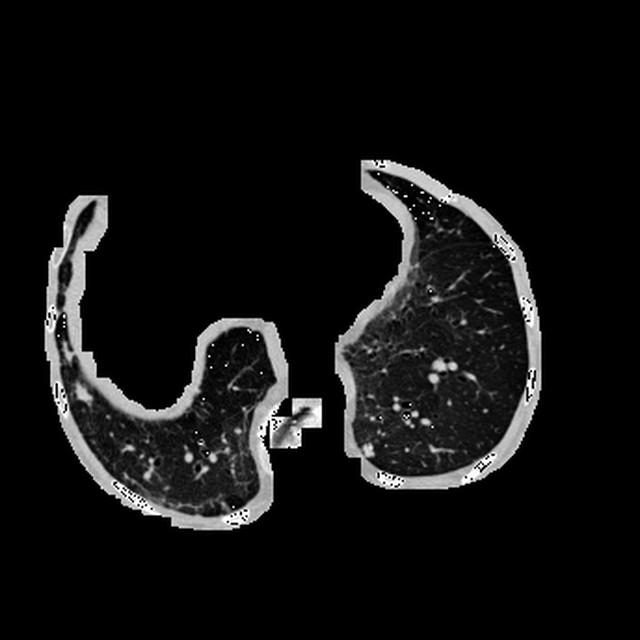PN: (361, 443, 376, 458)
